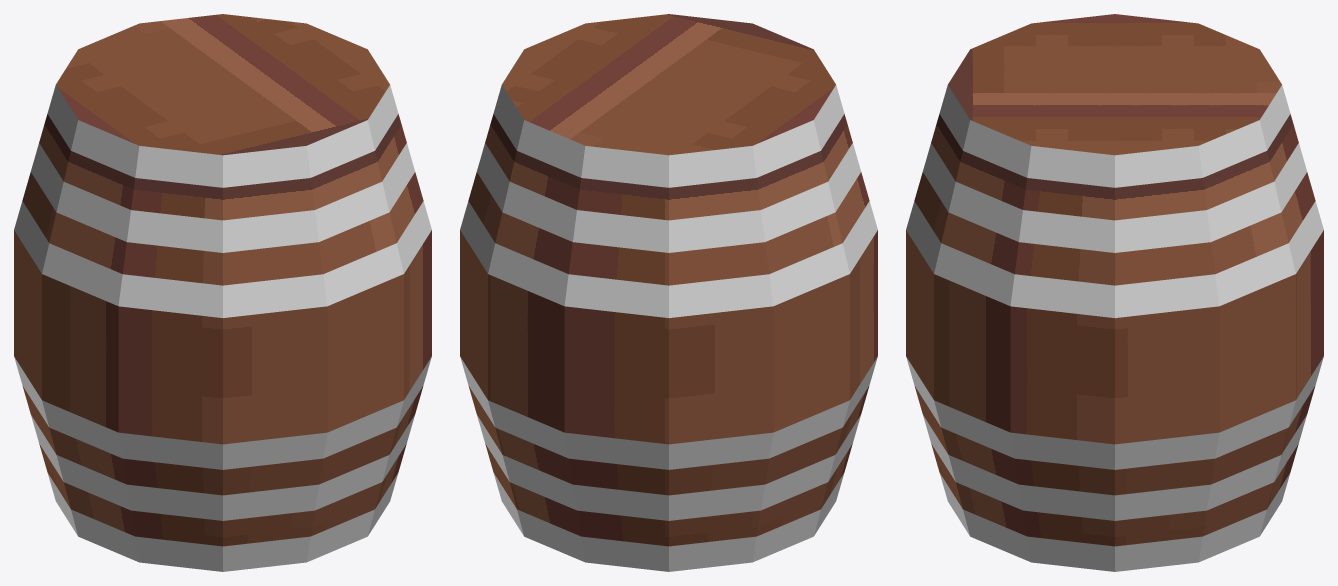
The model's file is Barrel.fbx.
The picture shows the model from 3 angles, left to right: view 1: azimuth 30°, elevation 25°; view 2: azimuth 150°, elevation 25°; view 3: azimuth 270°, elevation 25°; orthographic projection.
Visible parts, largest first — view 1: Cube; view 2: Cube; view 3: Cube.
Part boxes in pixels (x1,y1,x2,y2): Cube: (14, 14, 431, 571); Cube: (460, 14, 877, 571); Cube: (906, 14, 1323, 571).
Size of the model in its own units: 5.78 by 6.35 by 5.78.
